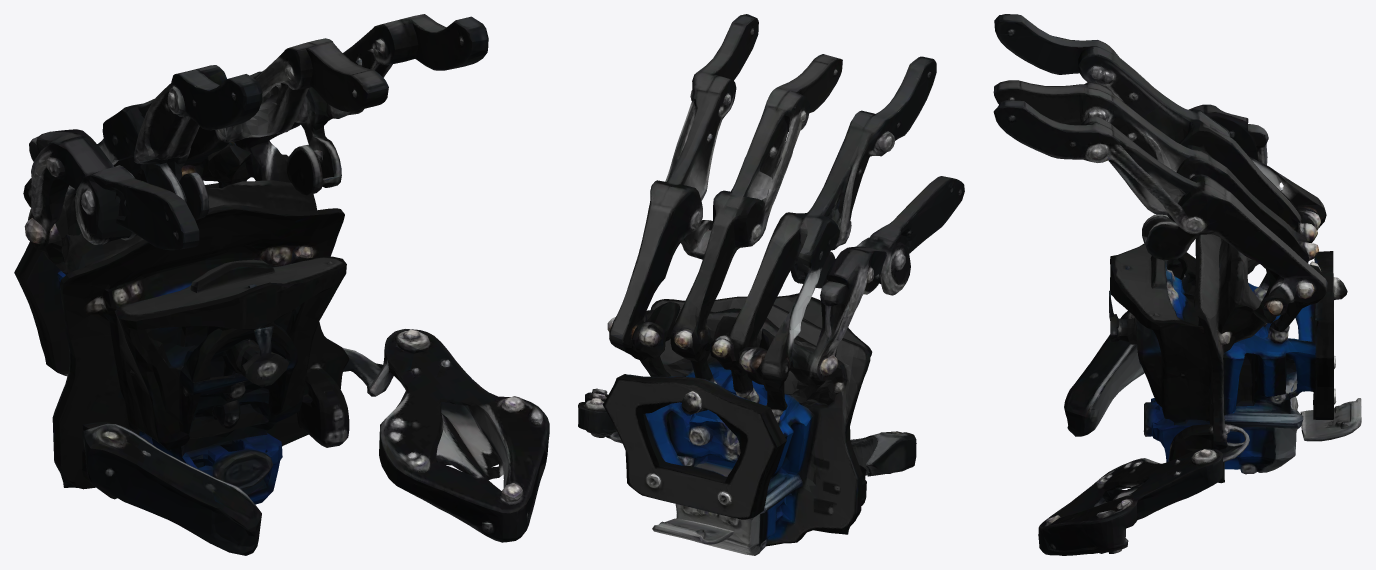
File: hand-optimized.glb
3 renders of one model, left to right at view 1: azimuth 30°, elevation 25°; view 2: azimuth 150°, elevation 25°; view 3: azimuth 270°, elevation 25°, orthographic. The views are drawn at different scales.
Bounding box in the file's own units: 0.842 × 1 × 0.786.
Materials: 1 (1 with a texture image).
